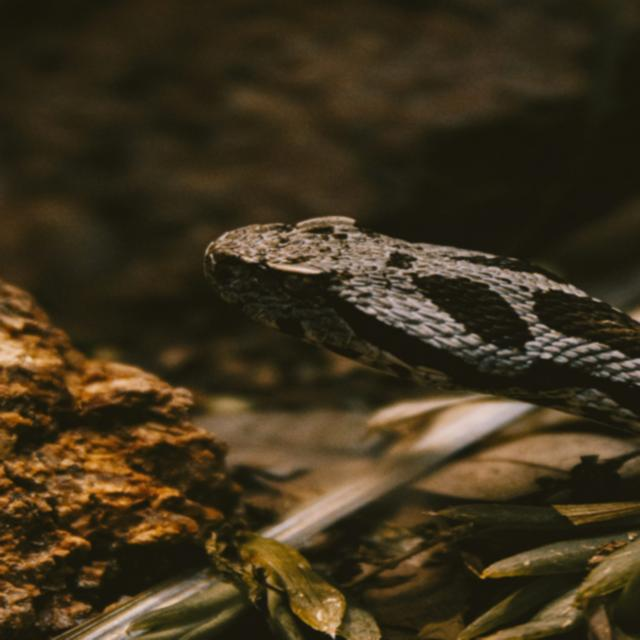Snake: (191, 190, 640, 500)
